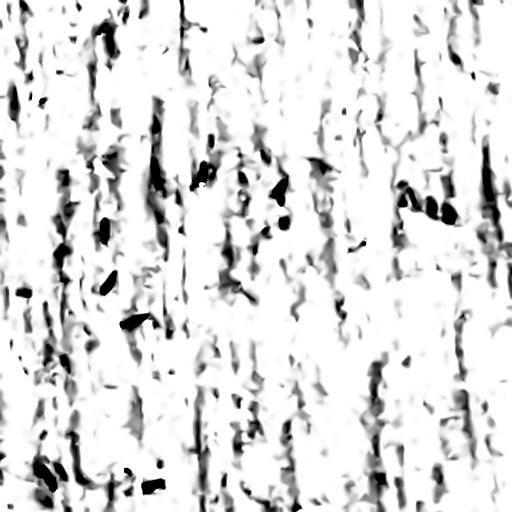egg: (36, 465, 56, 491), (190, 161, 208, 189), (120, 313, 149, 329), (271, 178, 287, 205), (101, 270, 116, 294), (142, 479, 164, 493), (426, 196, 437, 217), (100, 218, 108, 243)
